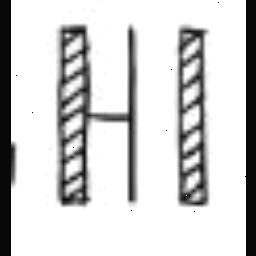h: (38, 20, 152, 204)
i: (163, 22, 225, 222)
